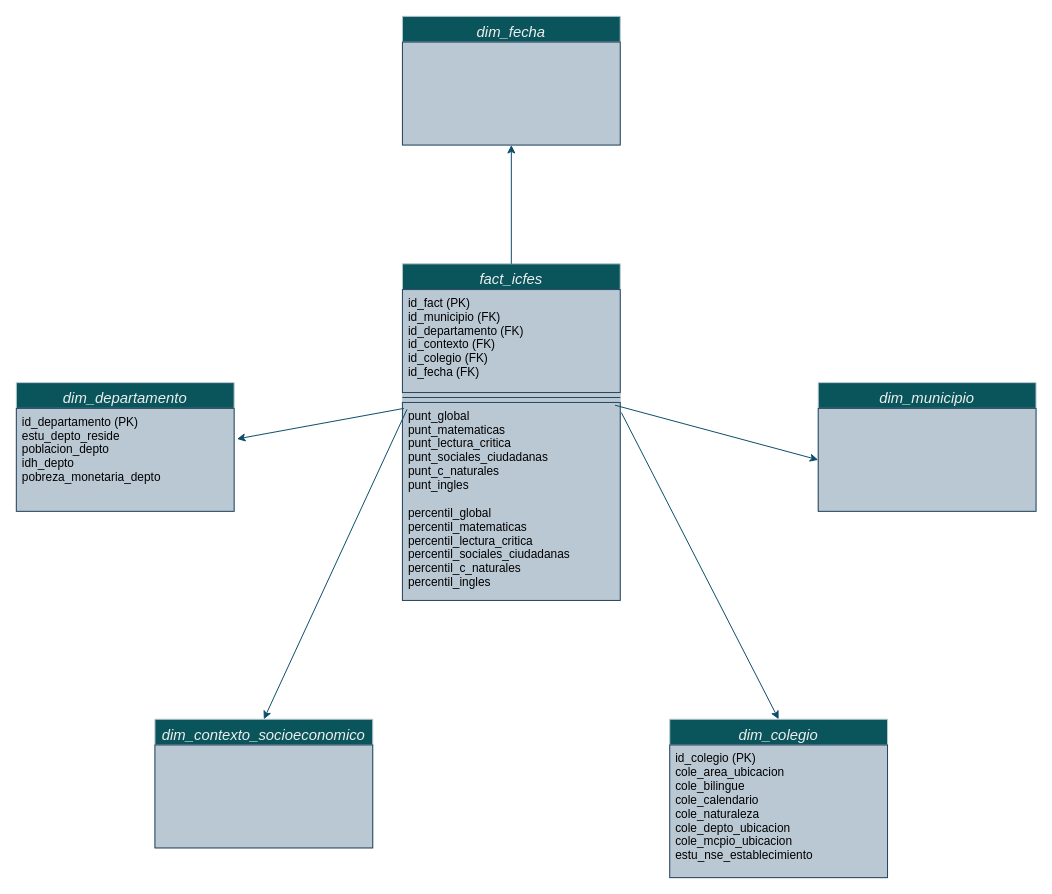
Some shapes in this 1052 by 894 pixel diagram are drawn without their labels. Each missing label, with the centre of its shape:
id_contexto (PK) estu_inse_individual estu_nse_individual fami_estratovivienda: [263,796]
id_fecha (PK) periodo: [510,93]
id_municipio (PK) estu_mcpio_reside poblacion_mcpio: [926,459]
